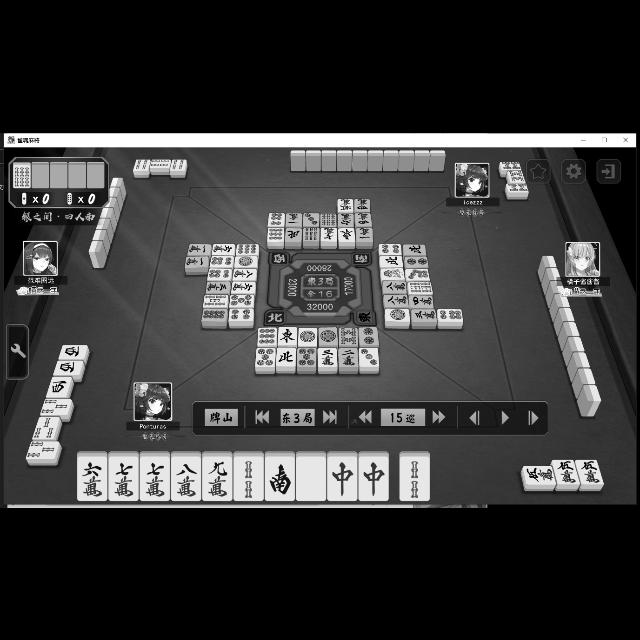1m: (185, 252, 209, 272), (356, 223, 376, 247), (286, 209, 302, 229), (184, 242, 210, 254)
1p: (296, 325, 318, 347), (382, 308, 410, 322), (318, 326, 336, 346), (236, 255, 254, 268)
1s: (376, 266, 402, 280)
2p: (404, 253, 434, 267)
2s: (395, 451, 431, 501), (235, 450, 263, 502)
3m: (319, 346, 335, 372), (204, 280, 230, 294), (412, 308, 436, 322)
3p: (358, 346, 384, 372), (302, 210, 318, 227)
4m: (410, 292, 440, 308), (353, 194, 373, 212), (354, 210, 374, 228)
4p: (376, 238, 402, 255), (231, 306, 255, 324)
4s: (148, 154, 172, 172), (130, 155, 150, 175), (170, 158, 188, 175)
5m: (556, 452, 578, 496), (516, 462, 554, 486), (580, 456, 606, 489), (500, 155, 524, 171), (338, 196, 354, 210)
5p: (254, 346, 276, 368), (296, 348, 316, 370), (230, 294, 254, 306)
5s: (202, 290, 228, 308)
6m: (71, 454, 107, 501), (232, 278, 258, 292), (212, 241, 234, 255), (339, 212, 353, 226)
6p: (436, 305, 464, 325), (206, 252, 234, 268), (208, 266, 232, 282), (266, 208, 284, 228)
6s: (10, 160, 32, 190), (408, 280, 436, 292), (319, 210, 336, 226)
7m: (140, 452, 170, 502), (112, 456, 138, 506), (319, 224, 336, 246)
7p: (408, 266, 434, 282)
8m: (169, 454, 201, 500), (382, 294, 408, 306), (384, 280, 406, 294), (233, 267, 257, 279)
8p: (200, 306, 230, 324)
9p: (258, 324, 278, 346), (265, 226, 285, 244), (236, 242, 258, 256)
9s: (302, 223, 321, 244)
chun: (355, 452, 389, 502), (331, 452, 354, 502)
haku: (294, 454, 328, 504)
nan: (266, 448, 292, 504)
pe: (273, 345, 295, 371), (404, 240, 430, 256), (284, 227, 302, 247), (378, 256, 400, 266)
tou: (278, 322, 298, 348), (337, 226, 357, 250)
